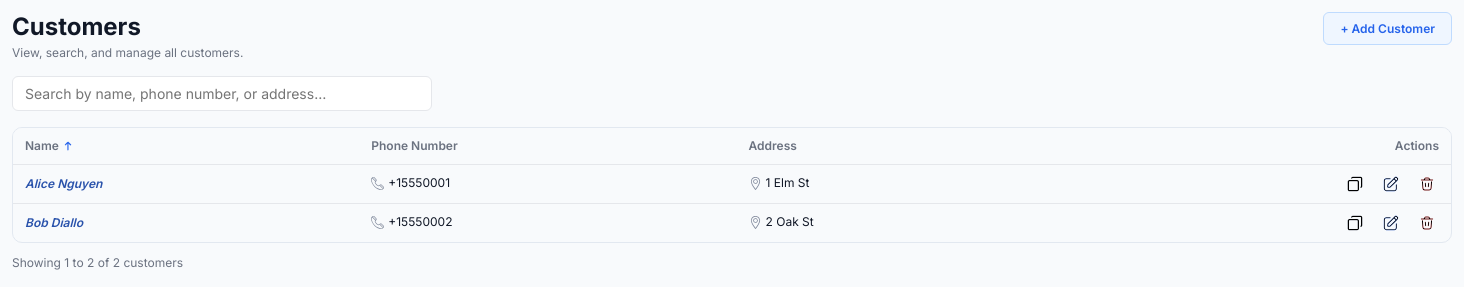
it: CustomerManager › copies the customer data to the clipboard as a labeled text block
The width and height of the screenshot is (1464, 287).
Expected: the button "Alice Nguyen" is shown, [25,178,102,190]
Click the button named "Copy to clipboard" in the row of "+15550001" at [1355, 184], box [1343,172,1367,196]
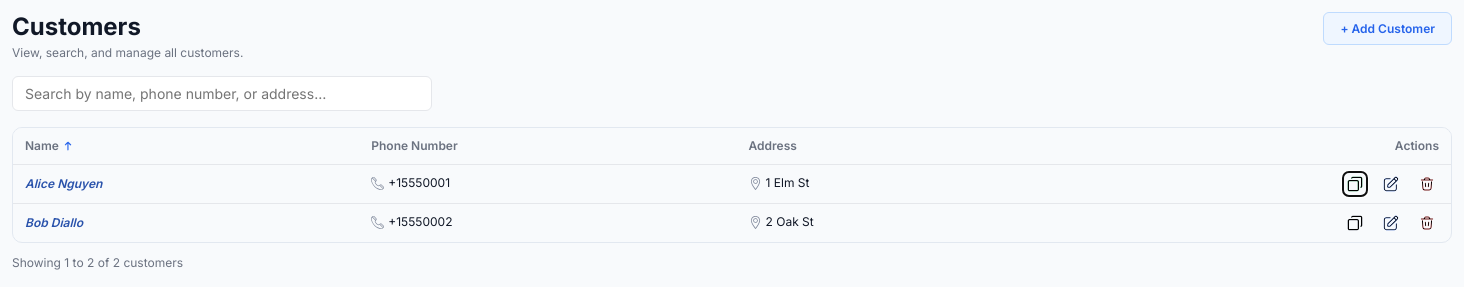
Expected: the button titled "Copied!" in the row of "+15550001" is shown, [1343,172,1367,196]
